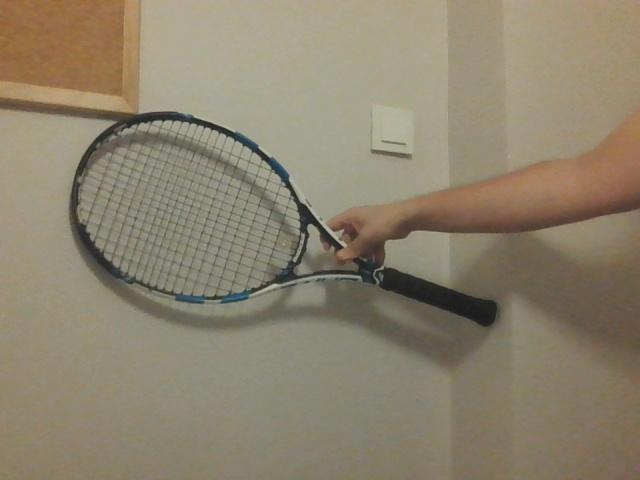Tennis-Racket: (72, 98, 500, 344)
